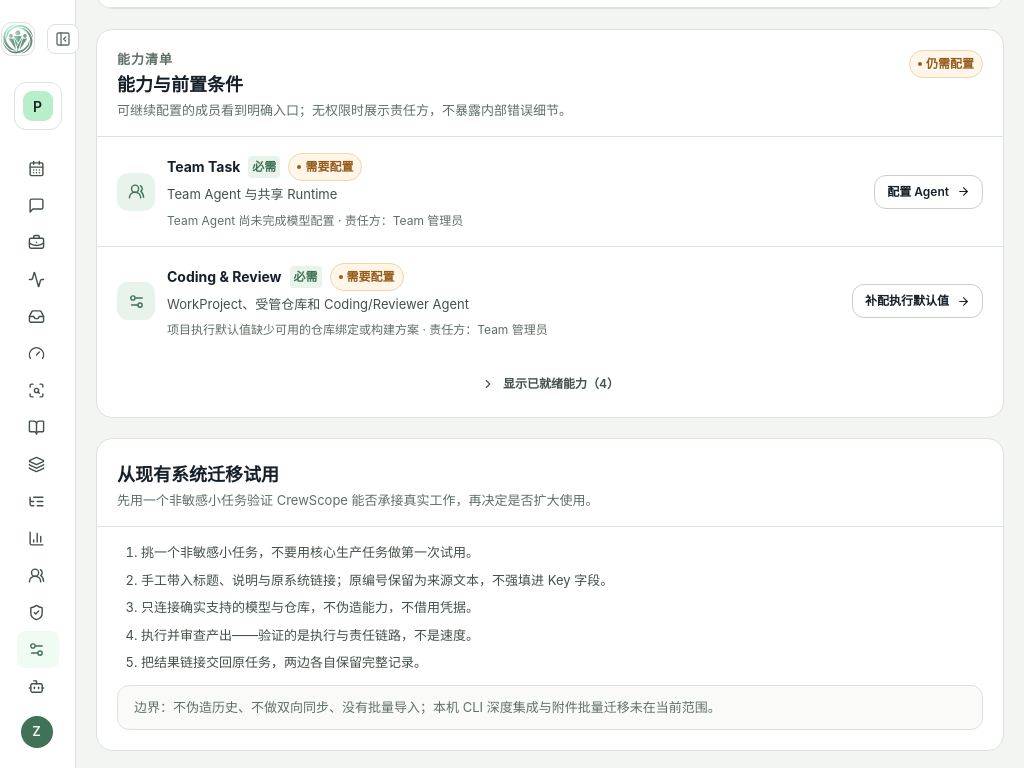
Scenario: SetupPage › folds ready capabilities behind a summary row
The width and height of the screenshot is (1024, 768).
(page scrolled)
Expected: the text "Personal Conversation" is not shown
Click the button "显示已就绪能力（4）" at {"x": 550, "y": 384}, box left=468, top=367, right=632, bottom=401
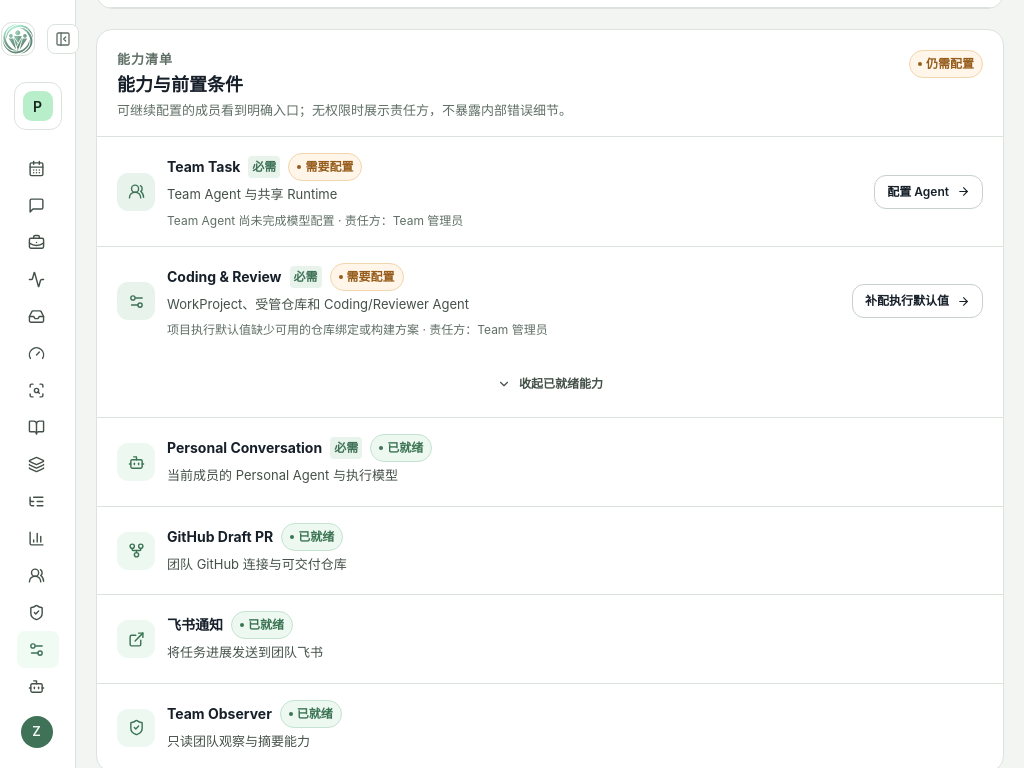
Now the text "Personal Conversation" is shown, box left=167, top=439, right=322, bottom=457
